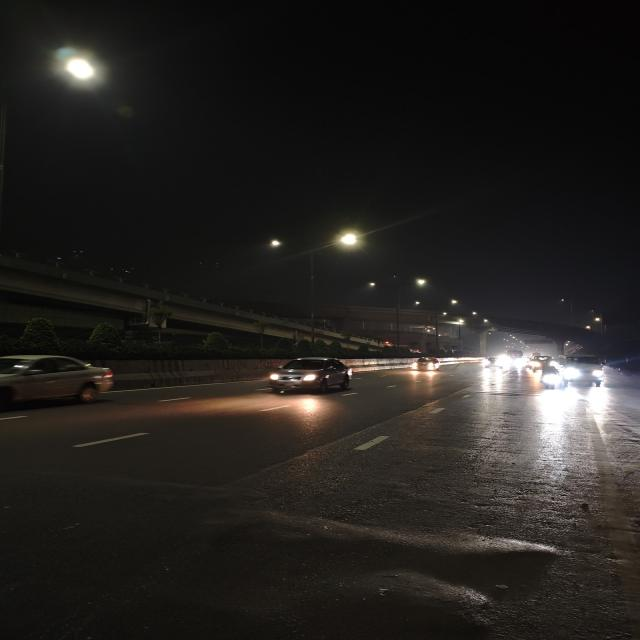bus: (503, 348, 526, 368)
car: (0, 347, 124, 418), (263, 356, 359, 396), (562, 354, 612, 388), (408, 354, 444, 373)
motorcycle: (481, 356, 499, 370)
